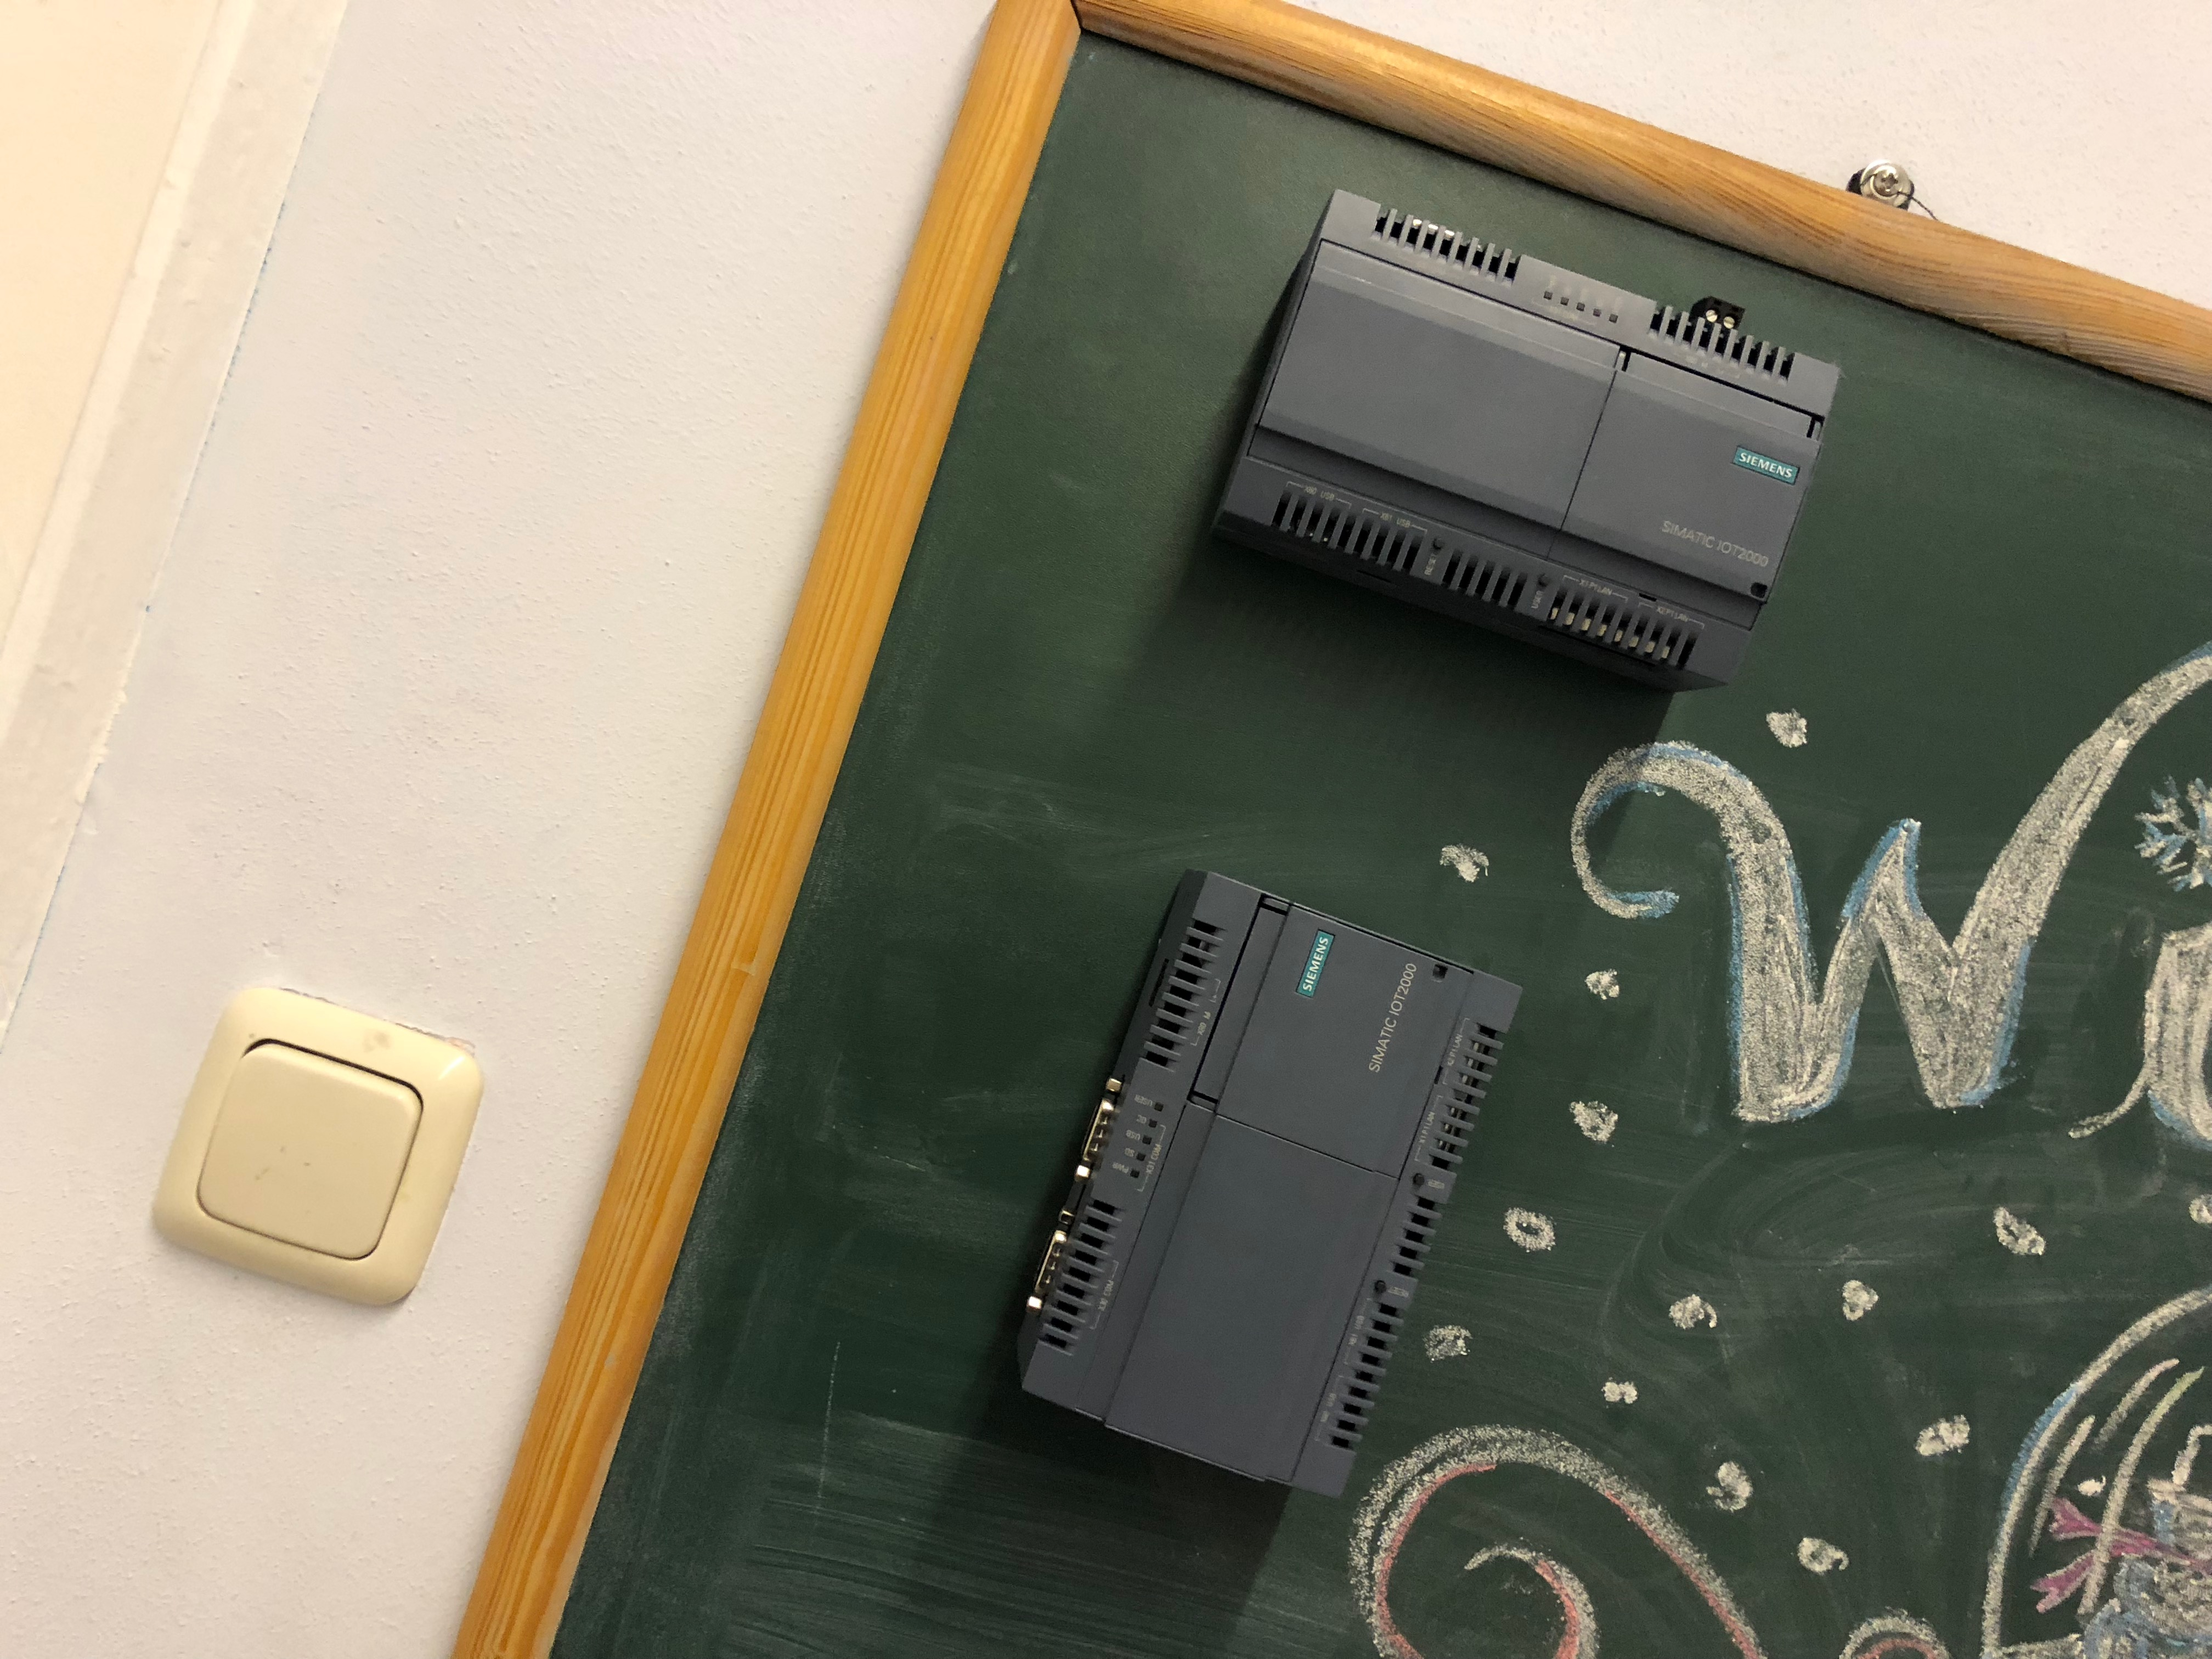device: (1207, 188, 1841, 694), (1017, 868, 1524, 1497)
